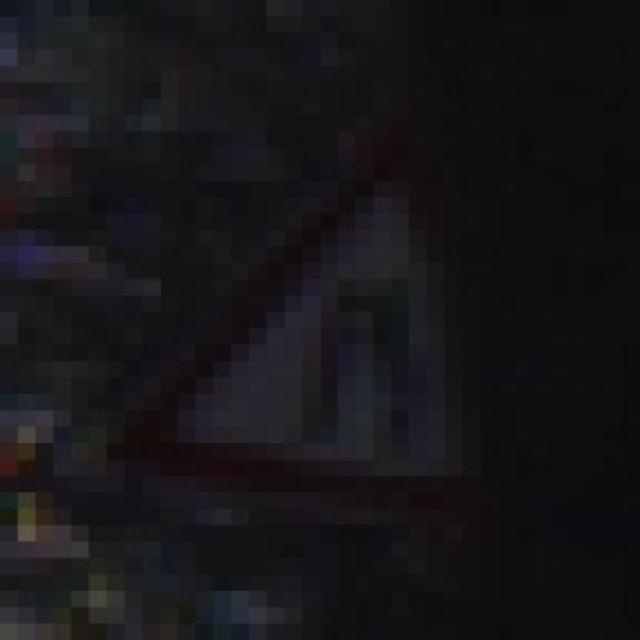-Road narrows on right: (107, 114, 516, 508)
